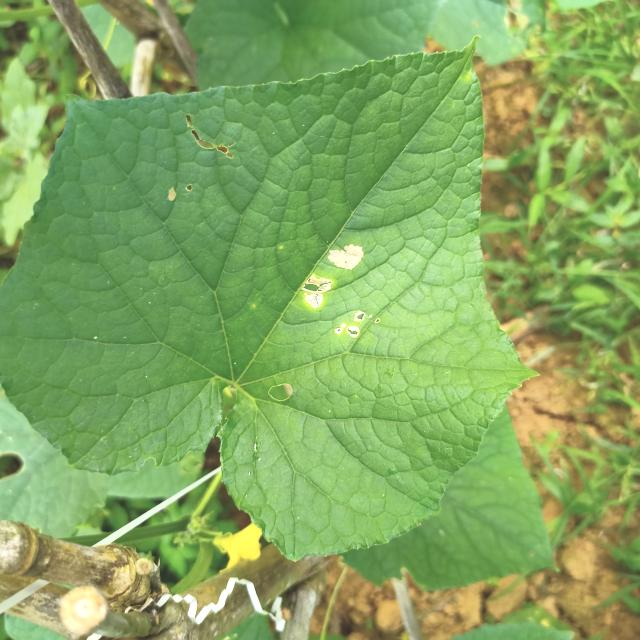disease_cucumber: (298, 241, 372, 346)
